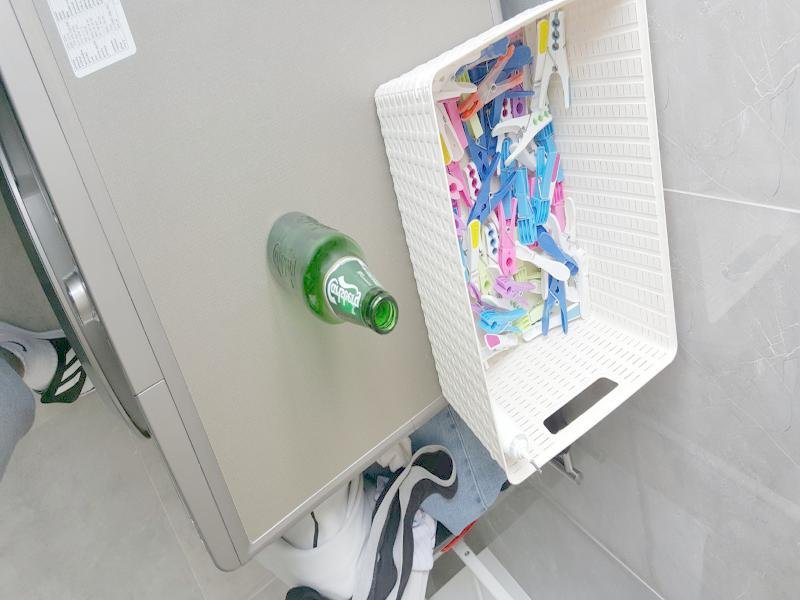Beer: (264, 214, 395, 335)
